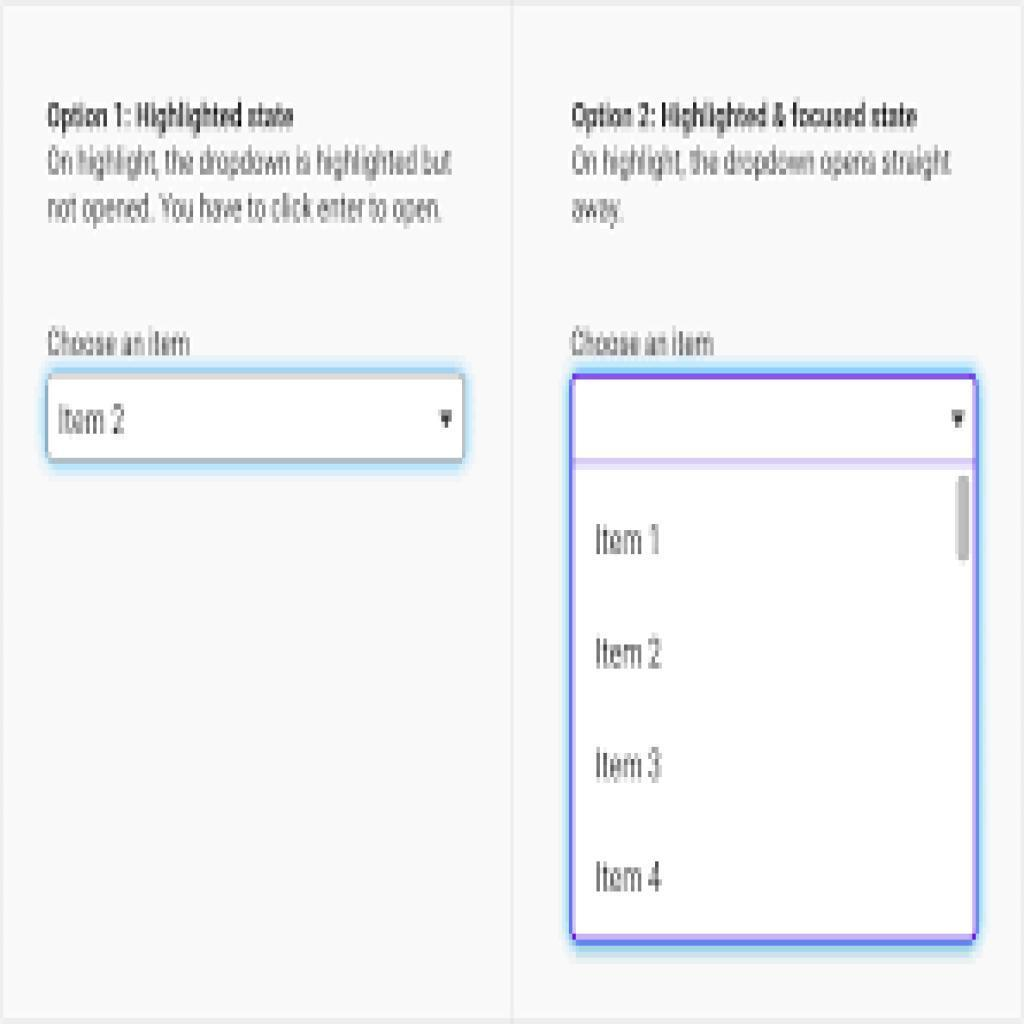dropdown: (569, 373, 977, 465), (48, 376, 465, 464)
